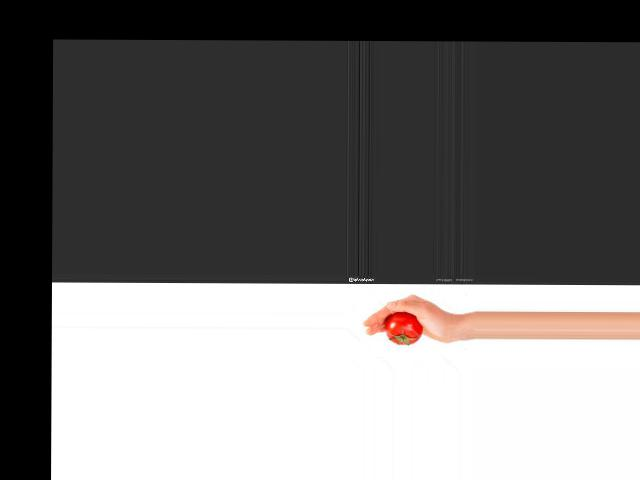tomato: (386, 312, 423, 344)
